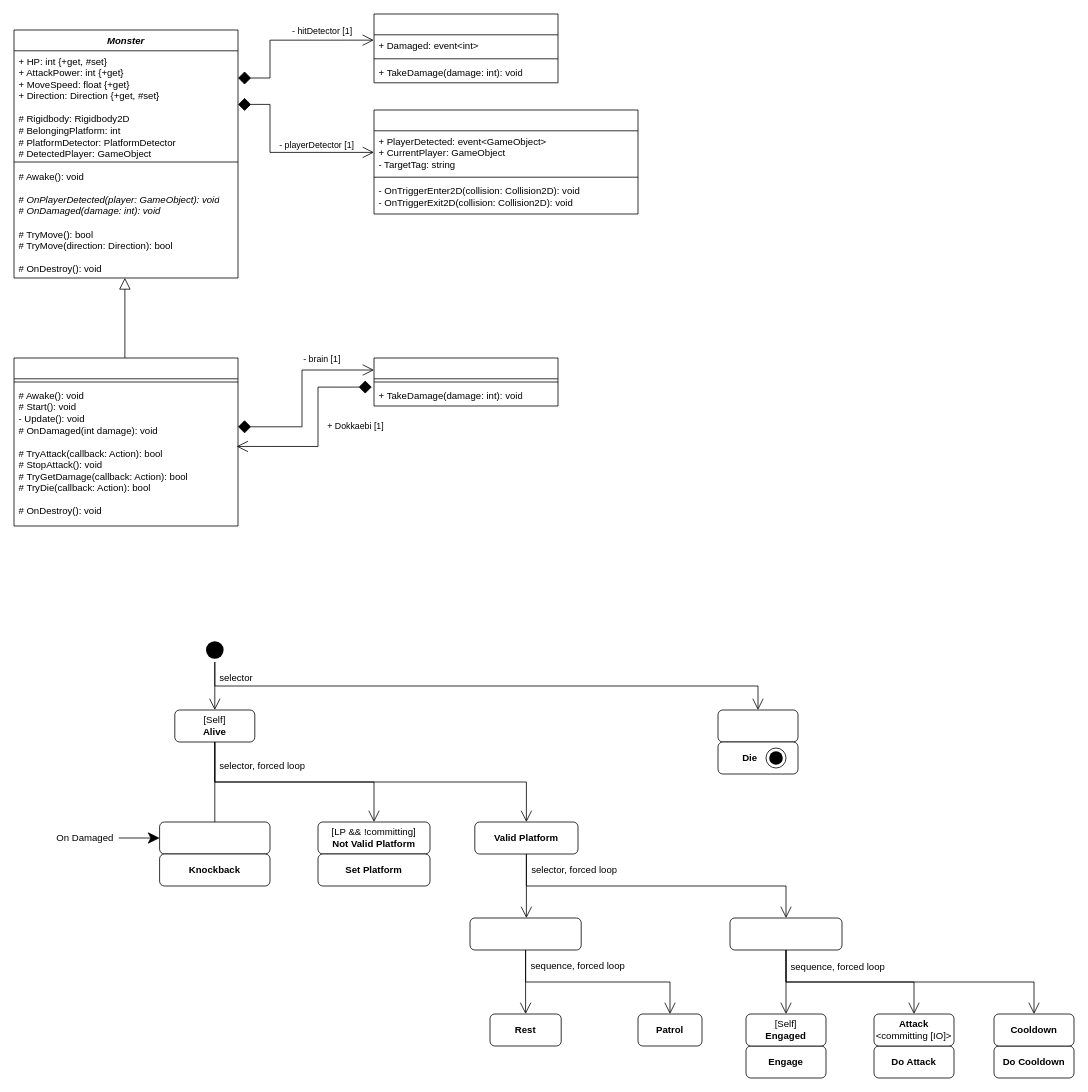
This 1088x1092 diagram has some shape labels left out. The box of each missing label's shape, as (x1, y1, x2, y2) in pixels:
[LP, Self && !committing] Player Not Detected: (469, 917, 581, 950)
[LP] Hit: (159, 821, 270, 854)
Brain: (373, 357, 558, 406)
Concrete Monster: (13, 357, 238, 526)
Dead: (717, 709, 798, 742)
MonsterHitted: (373, 13, 558, 83)
MonsterPlayerDetector: (373, 109, 638, 214)
Player Detected: (729, 917, 842, 950)
